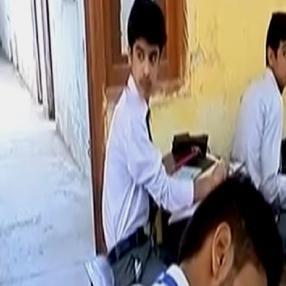cheating: (105, 0, 235, 199)
